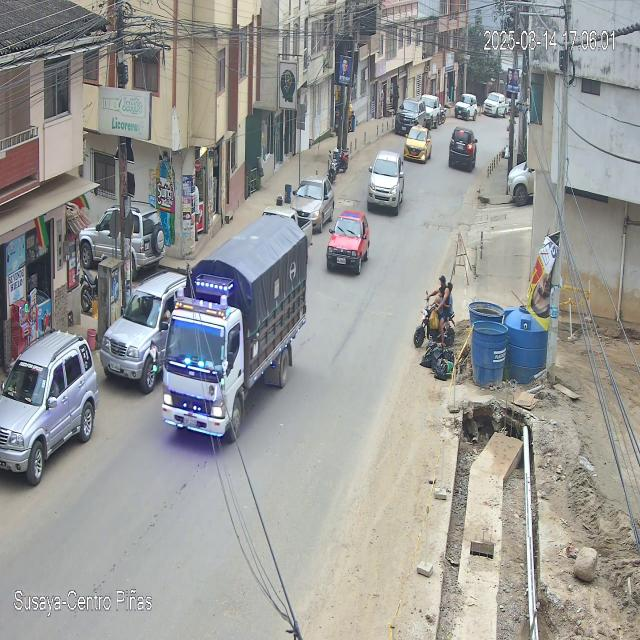SED: (326, 210, 370, 276)
TRUCK: (162, 214, 308, 446)
